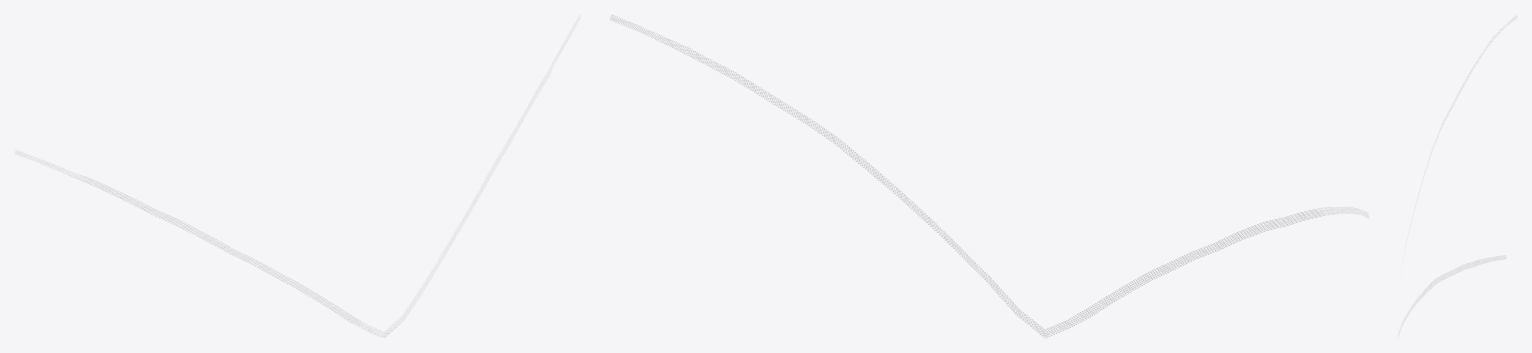
Rendered from stich.glb.
The picture shows the model from 3 angles, left to right: view 1: azimuth 30°, elevation 25°; view 2: azimuth 150°, elevation 25°; view 3: azimuth 270°, elevation 25°; orthographic projection. The views are drawn at different scales.
Visible parts, largest first — view 1: Stiches plane; view 2: Stiches plane; view 3: Stiches plane.
Boxes of the visible parts, left/top/right/bottom form: Stiches plane: left=15, top=15, right=579, bottom=338; Stiches plane: left=610, top=14, right=1368, bottom=338; Stiches plane: left=1398, top=15, right=1517, bottom=336.
Size of the model in its own units: 0.5196 by 0.1936 by 0.1073.
Materials: 1 (1 with a texture image).
